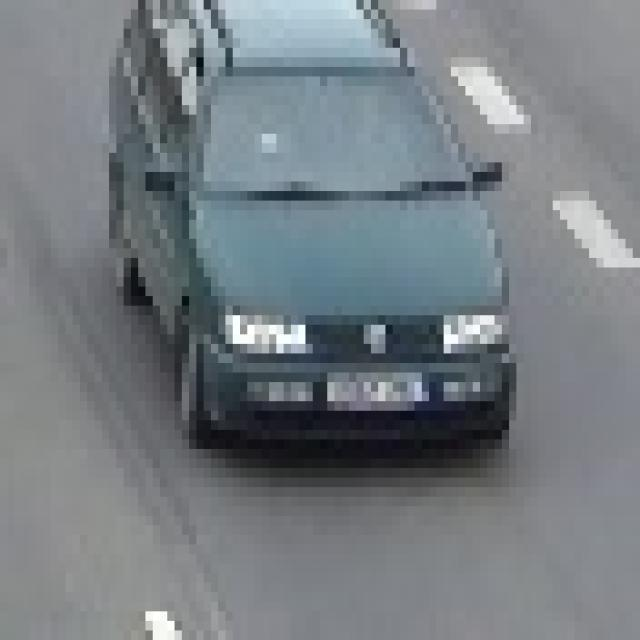SUV: (119, 0, 506, 447)
